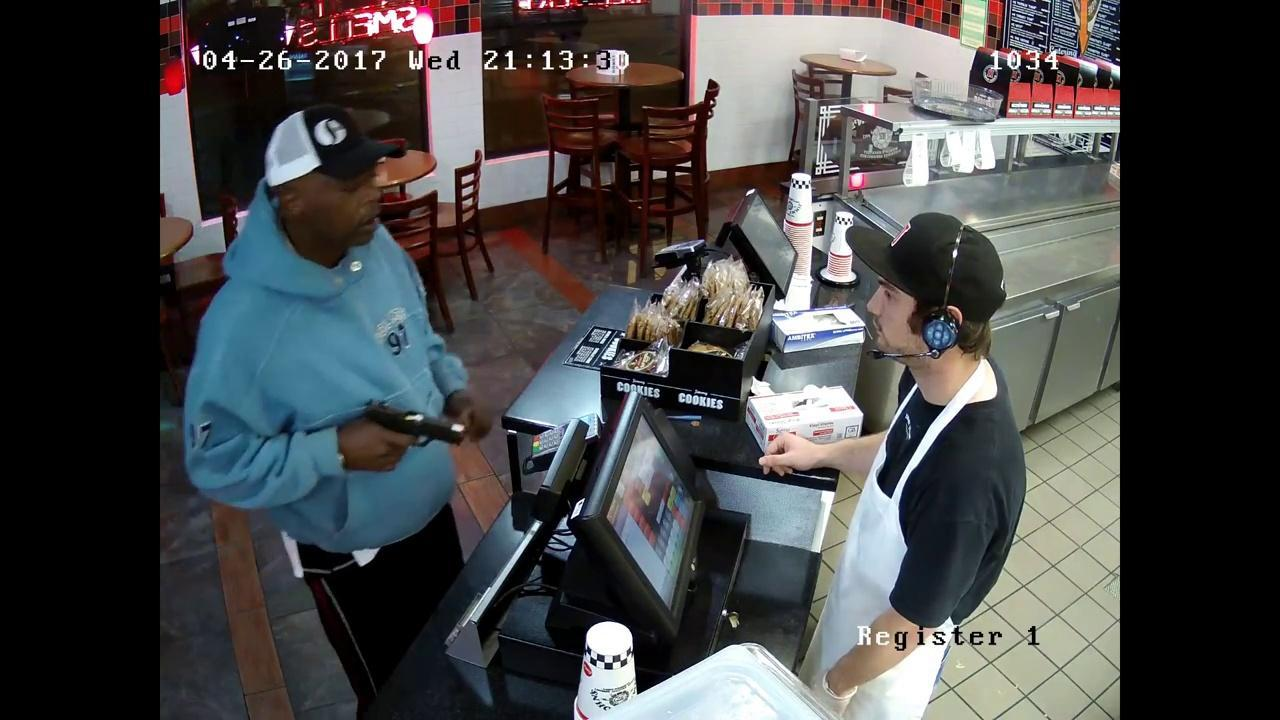Guns: (331, 383, 485, 458)
